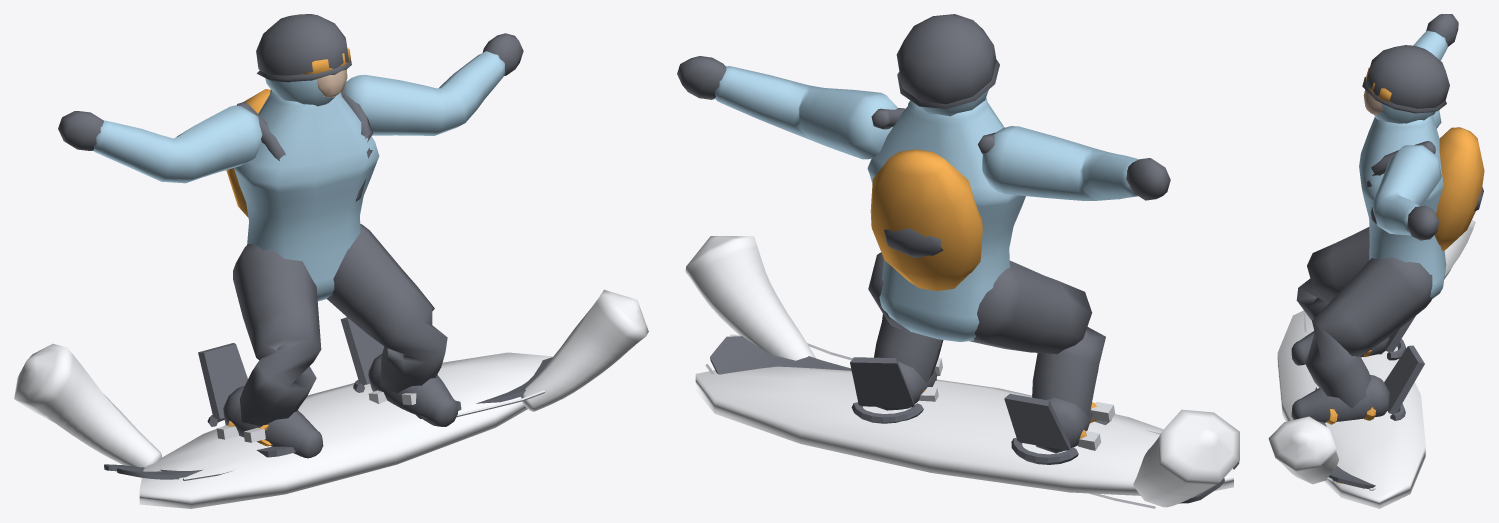
The model's file is backcountry-snowboarding-and-avalanche-safety-rider-cr-3d7d66b3__18921.glb.
3 views of the same model, side by side, from view 1: azimuth 30°, elevation 25°; view 2: azimuth 150°, elevation 25°; view 3: azimuth 270°, elevation 25° (orthographic). The views are drawn at different scales.
Parts seen in each view (by area): view 1: rider-crouched-in-powder; view 2: rider-crouched-in-powder; view 3: rider-crouched-in-powder.
Part boxes in pixels (left/top/right/bottom): rider-crouched-in-powder: left=14, top=14, right=648, bottom=508; rider-crouched-in-powder: left=677, top=14, right=1239, bottom=508; rider-crouched-in-powder: left=1268, top=14, right=1484, bottom=508.
Bounding box in the file's own units: 1.85 × 1.33 × 0.706.
